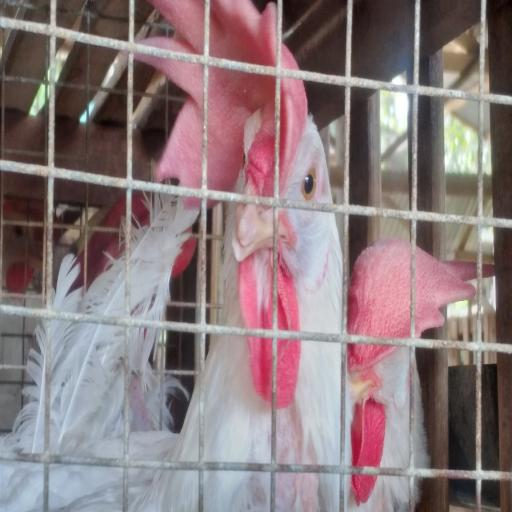healthy: (234, 56, 337, 364)
